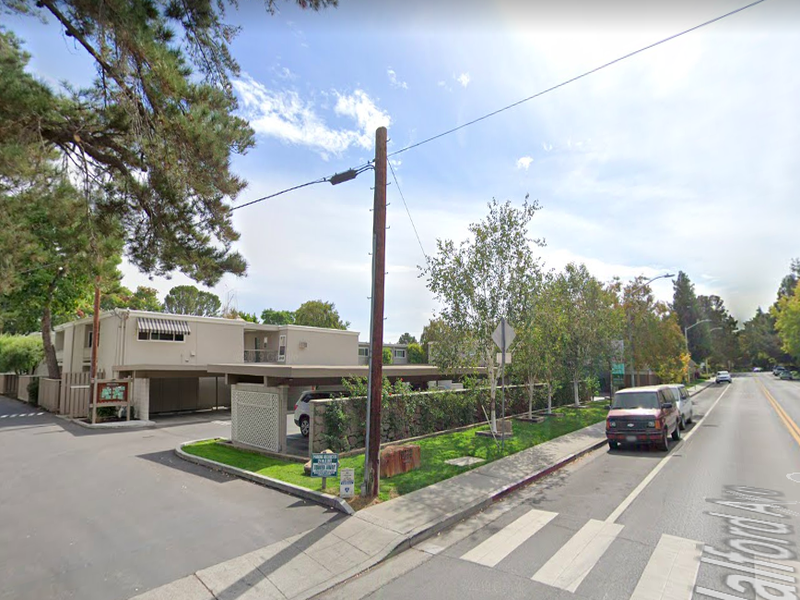utility_pole: (324, 116, 403, 236)
